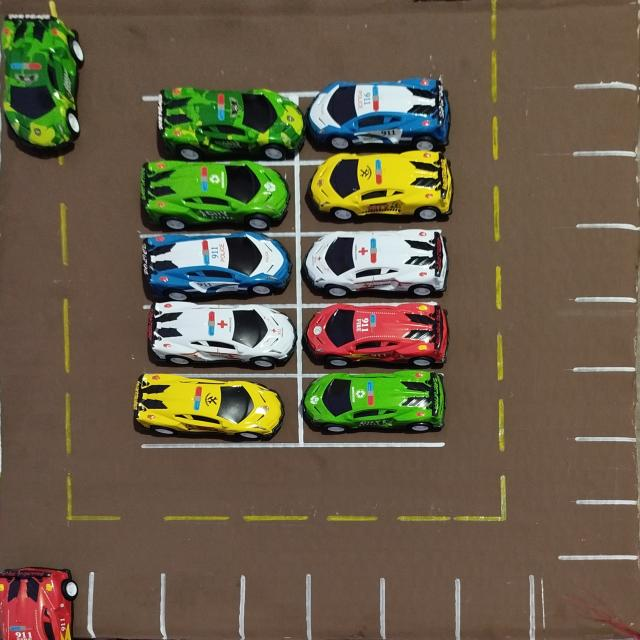libre: (164, 568, 247, 640), (456, 568, 538, 640), (92, 565, 164, 640), (572, 150, 640, 227), (571, 224, 640, 299), (569, 298, 640, 370), (309, 572, 383, 640), (383, 571, 455, 640), (571, 368, 640, 438), (241, 569, 309, 640), (571, 85, 640, 154), (572, 437, 639, 502), (572, 502, 640, 558)
no_estacionarse: (532, 562, 640, 640)
ocupado: (132, 376, 302, 449), (140, 87, 306, 161), (136, 158, 299, 232), (138, 233, 299, 307), (294, 368, 445, 446), (293, 159, 450, 234), (139, 304, 296, 376), (297, 230, 444, 304), (308, 80, 452, 154), (298, 307, 452, 370), (0, 558, 89, 640)
